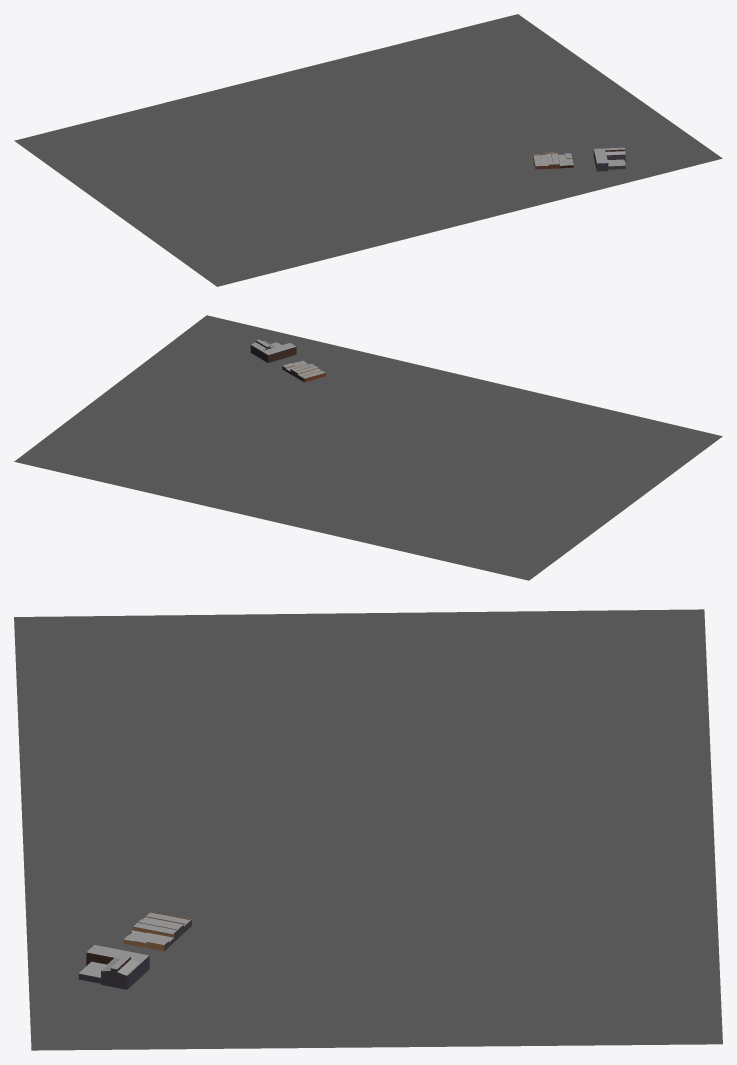
Rendered from oci-office-co-ordinators-inc.glb.
The picture shows the model from 3 angles, top to bottom: view 1: azimuth 30°, elevation 25°; view 2: azimuth 150°, elevation 25°; view 3: azimuth 270°, elevation 25°; orthographic projection. The views are drawn at different scales.
Visible parts, largest first — view 1: LOD0; view 2: LOD0; view 3: LOD0.
Part boxes in pixels (<box>): LOD0: <box>14,14,722,286</box>; LOD0: <box>14,315,722,580</box>; LOD0: <box>14,609,722,1050</box>.
Size of what is drawn, in the model's own units: 689 by 14.54 by 472.
Materials: 1 (1 with a texture image).
